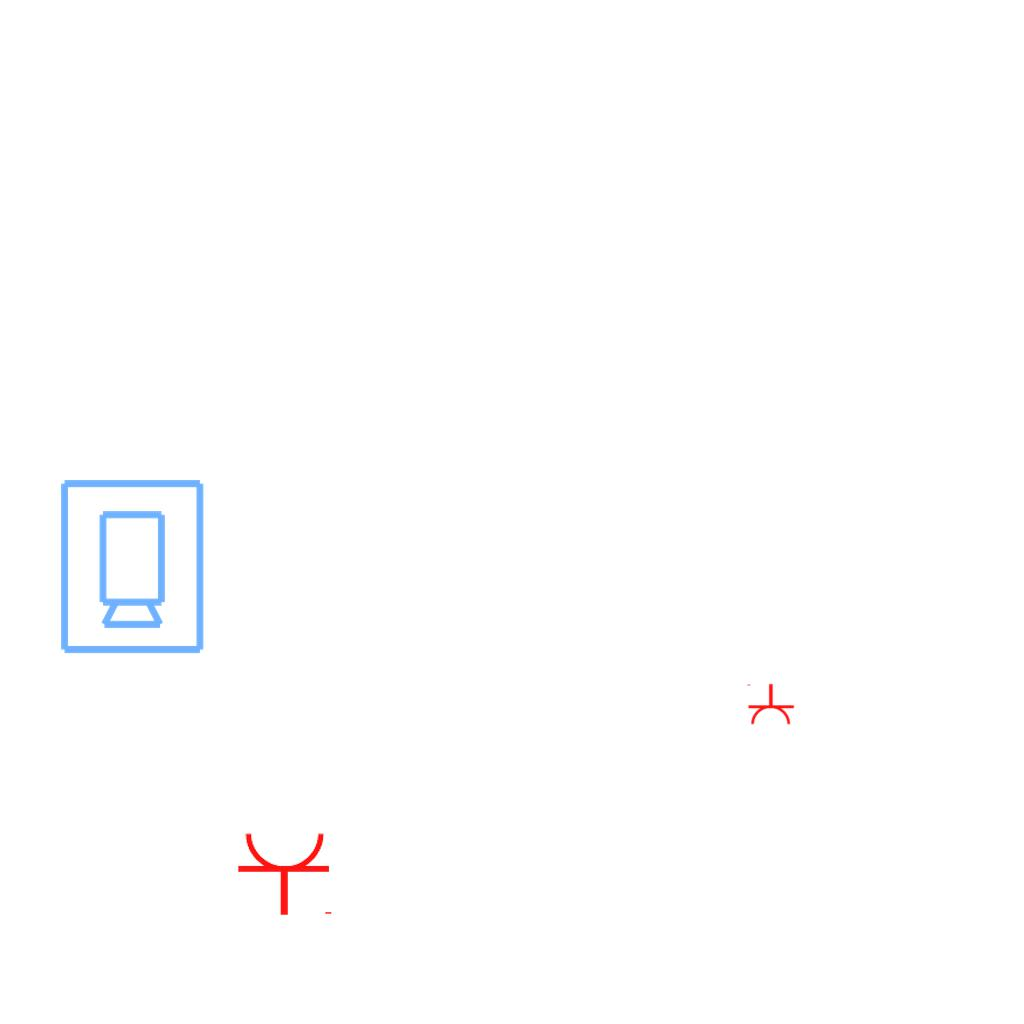KFO_Kamera_mit_Festobjektiv: (54, 475, 208, 657)
Schukosteckdose_einfach: (236, 830, 336, 917), (745, 683, 795, 726)
